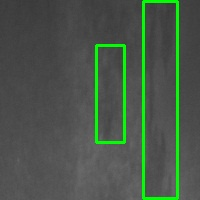inclusion: (143, 1, 177, 198), (96, 45, 124, 142)
